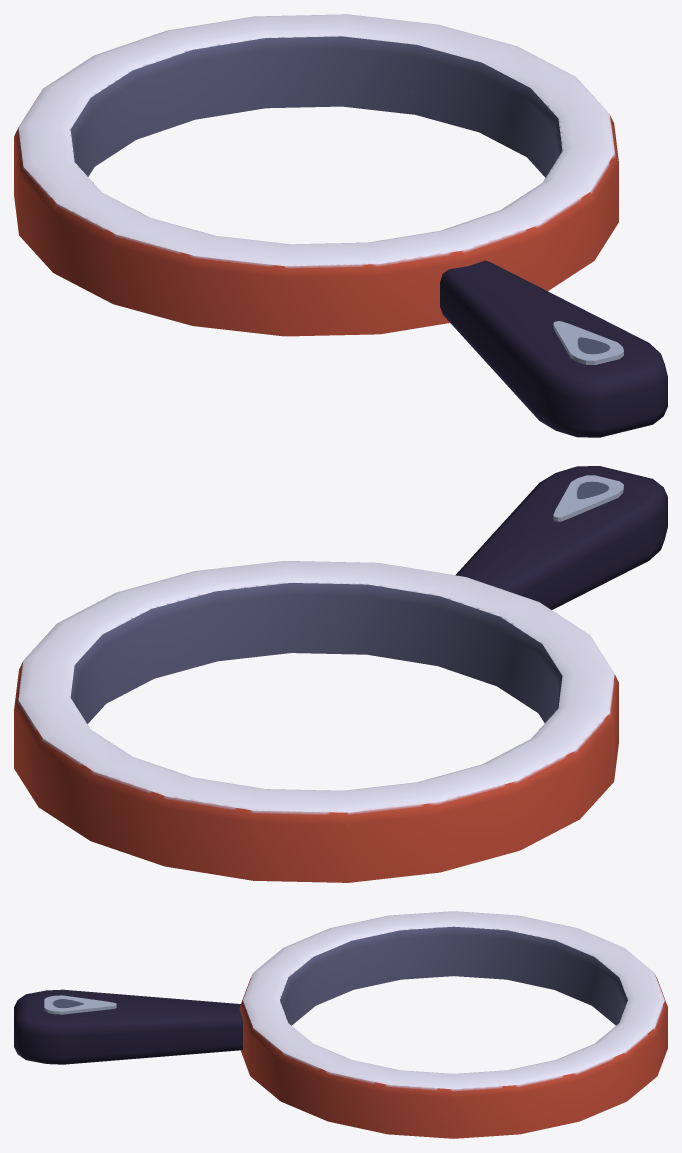
File: HoleCaudron.fbx
3 renders of one model, top to bottom at view 1: azimuth 30°, elevation 25°; view 2: azimuth 150°, elevation 25°; view 3: azimuth 270°, elevation 25°, orthographic. The views are drawn at different scales.
Parts seen in each view (by area): view 1: Caudron; view 2: Caudron; view 3: Caudron.
Part boxes in pixels (x1,y1,x2,y2): Caudron: (14,14,667,437); Caudron: (14,466,667,882); Caudron: (14,911,667,1138).
Bounding box in the file's own units: 1.98 × 0.2605 × 3.03.
Materials: 1 (1 with a texture image).
